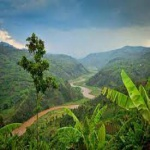River: (10, 96, 80, 138), (69, 62, 99, 110)
